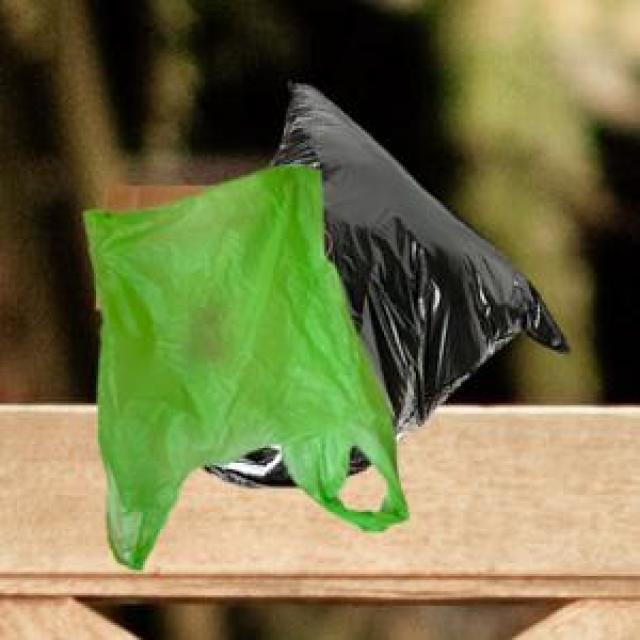miscellaneous trash: (210, 79, 565, 484)
paper: (98, 181, 211, 209)
